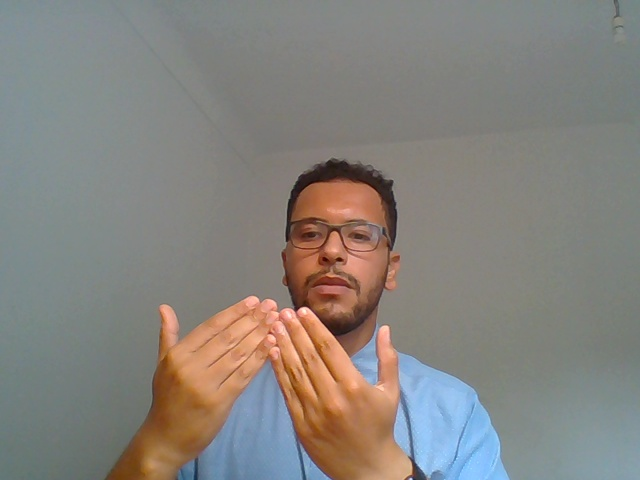thanks: (99, 293, 512, 480)
